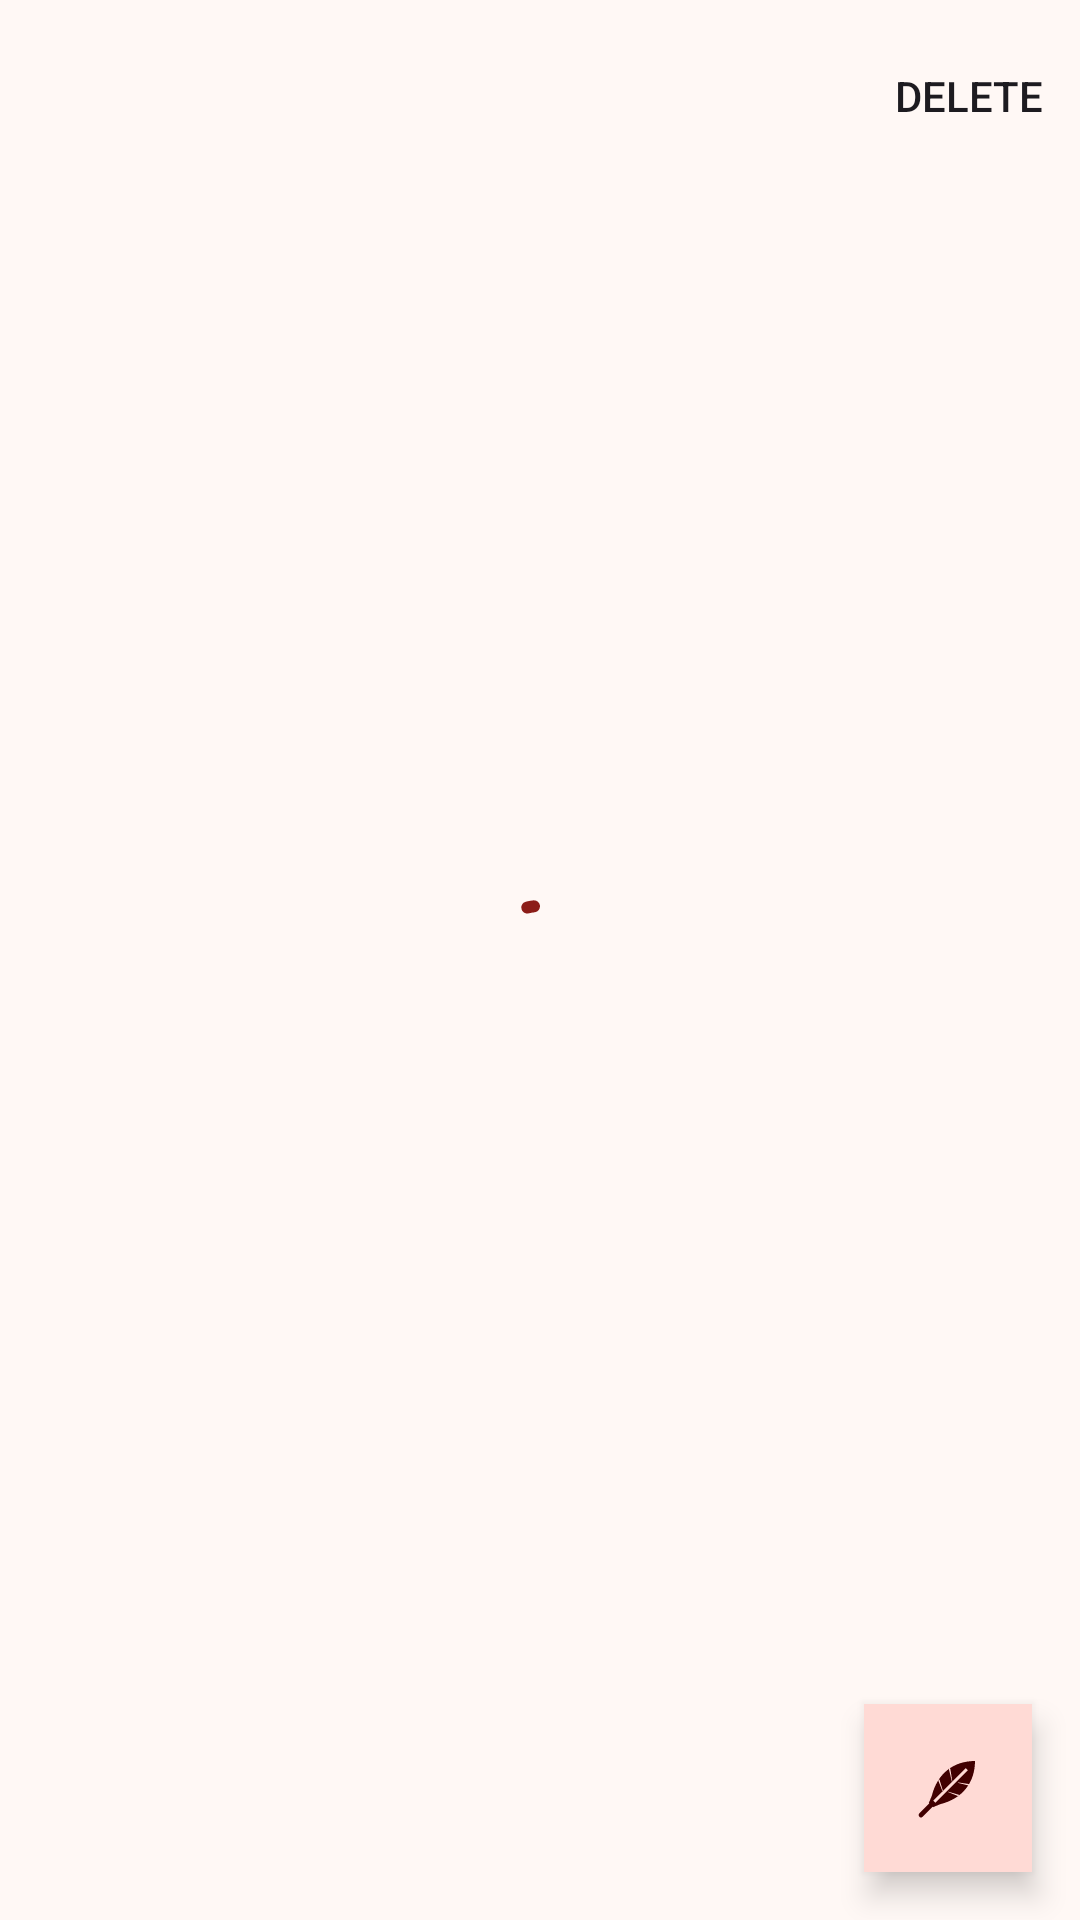

Named icons in this screenshot (1080x1920) and their bounding boxes, region(x1, y1, x2, y2):
Edit item: region(864, 1704, 1032, 1872)
